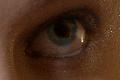eye: (47, 18, 77, 45)
